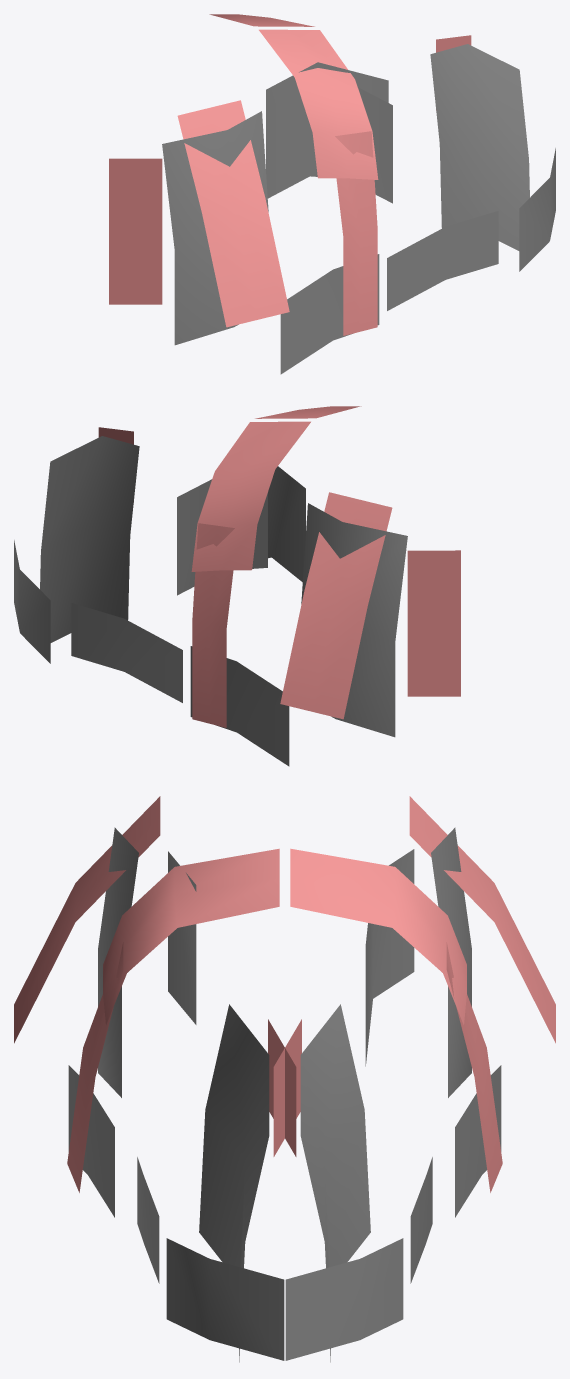
The model's file is PriMT_LandMark3_Saurs_Deco.gltf.
The picture shows the model from 3 angles, top to bottom: view 1: azimuth 30°, elevation 25°; view 2: azimuth 150°, elevation 25°; view 3: azimuth 270°, elevation 25°; orthographic projection. The views are drawn at different scales.
Visible parts, largest first — view 1: PriMT_LandMark3_Saurs_Deco; view 2: PriMT_LandMark3_Saurs_Deco; view 3: PriMT_LandMark3_Saurs_Deco.
Part boxes in pixels (x1,y1,x2,y2): PriMT_LandMark3_Saurs_Deco: (109, 14, 555, 374); PriMT_LandMark3_Saurs_Deco: (14, 406, 460, 766); PriMT_LandMark3_Saurs_Deco: (14, 796, 555, 1362).
Size of the model in its own units: 12.1 by 6.57 by 9.07.
